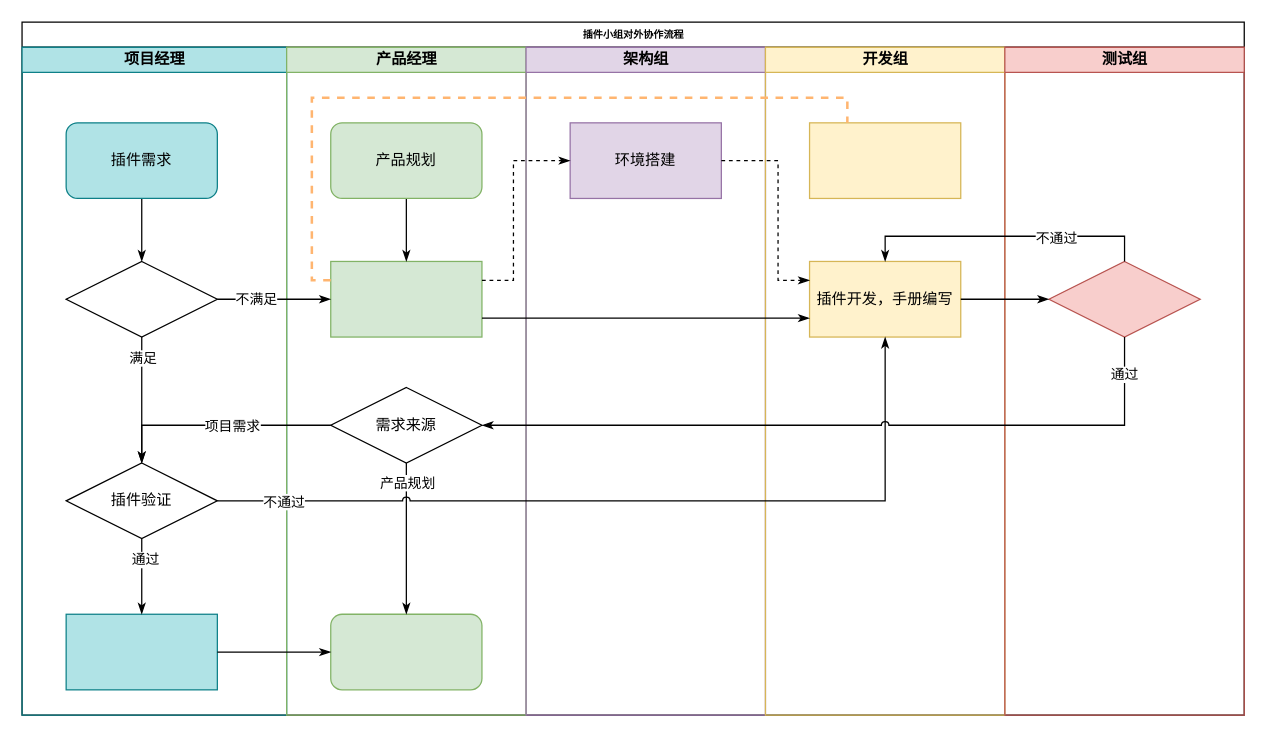
Some shapes in this 1266 by 737 pixel diagram are drawn without their labels. The centre of each missing label's shape, as x and y in pixels:
"技术沟通" goes at (x=884, y=160).
"插件上线" goes at (x=141, y=651).
"插件发布" goes at (x=405, y=651).
"插件市场满足要求" goes at (x=141, y=298).
"插件测试" goes at (x=1124, y=298).
"需求沟通" goes at (x=405, y=298).
